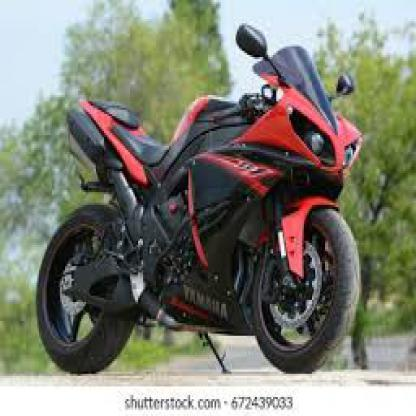Motorcycle: (30, 22, 365, 382)
